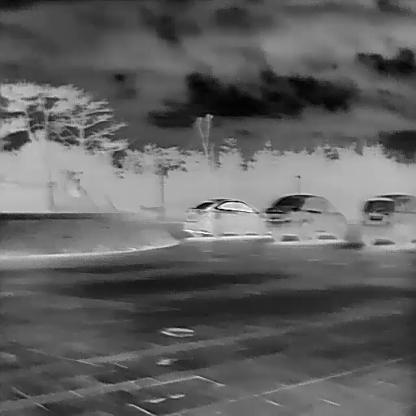car: (262, 193, 348, 244), (358, 192, 416, 249), (183, 196, 263, 236)
